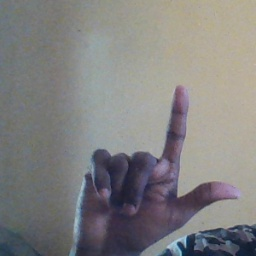L: (71, 84, 240, 253)
